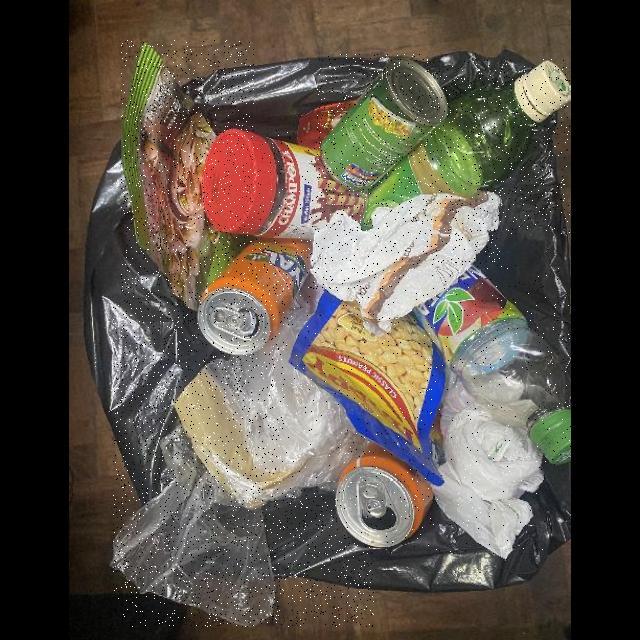metal: (317, 55, 450, 194), (197, 239, 312, 356), (337, 442, 434, 548)
paper: (311, 190, 500, 317)
plastic: (113, 304, 374, 627), (363, 59, 570, 234), (414, 265, 571, 467), (434, 370, 545, 560), (200, 130, 367, 240)
wrapper: (122, 41, 254, 307), (287, 291, 447, 490)
